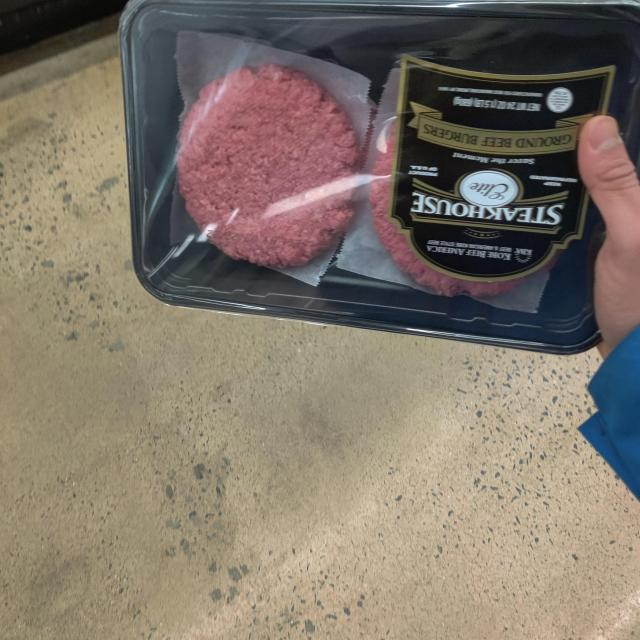Meat: (116, 4, 611, 350)
